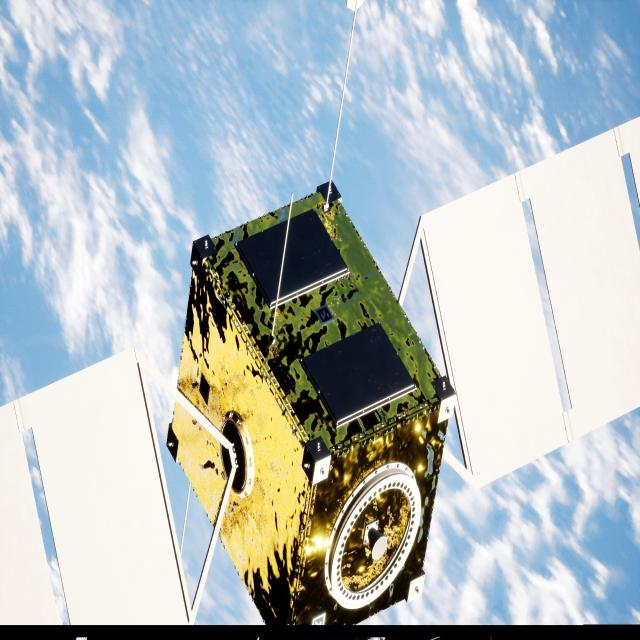satellite: (0, 117, 640, 627)
